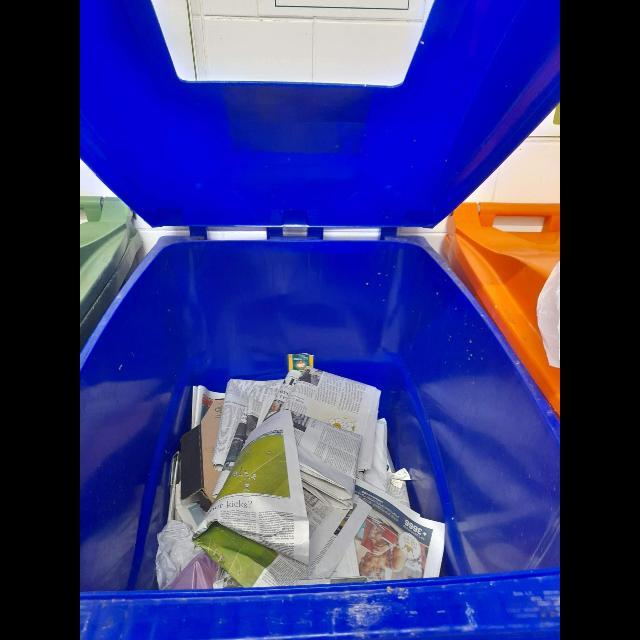paper: (192, 410, 371, 588), (265, 367, 381, 510), (212, 370, 301, 498), (354, 479, 445, 582), (181, 400, 223, 512), (191, 386, 225, 430)
plastic: (155, 520, 202, 590)
